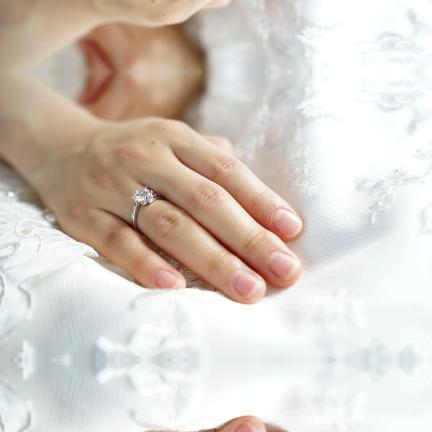Nail: (232, 269, 265, 298), (269, 251, 301, 280), (273, 208, 303, 236), (156, 269, 185, 288), (235, 420, 264, 432), (160, 430, 185, 432)
